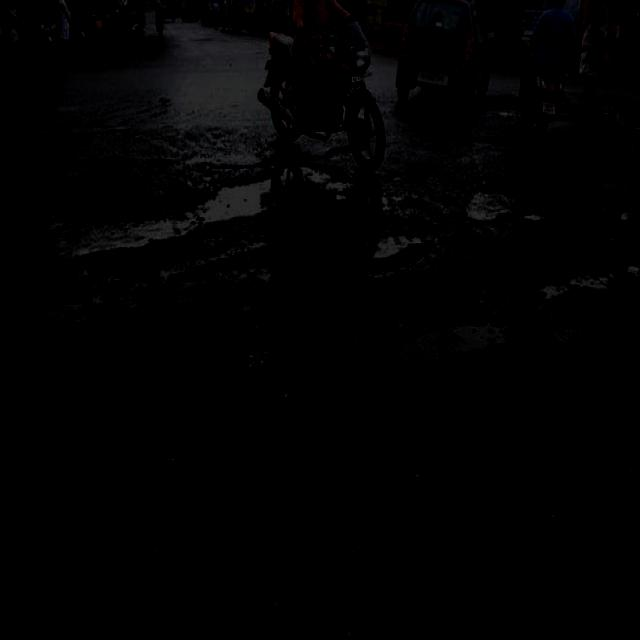Pothole: (30, 281, 640, 640), (52, 148, 635, 283)
